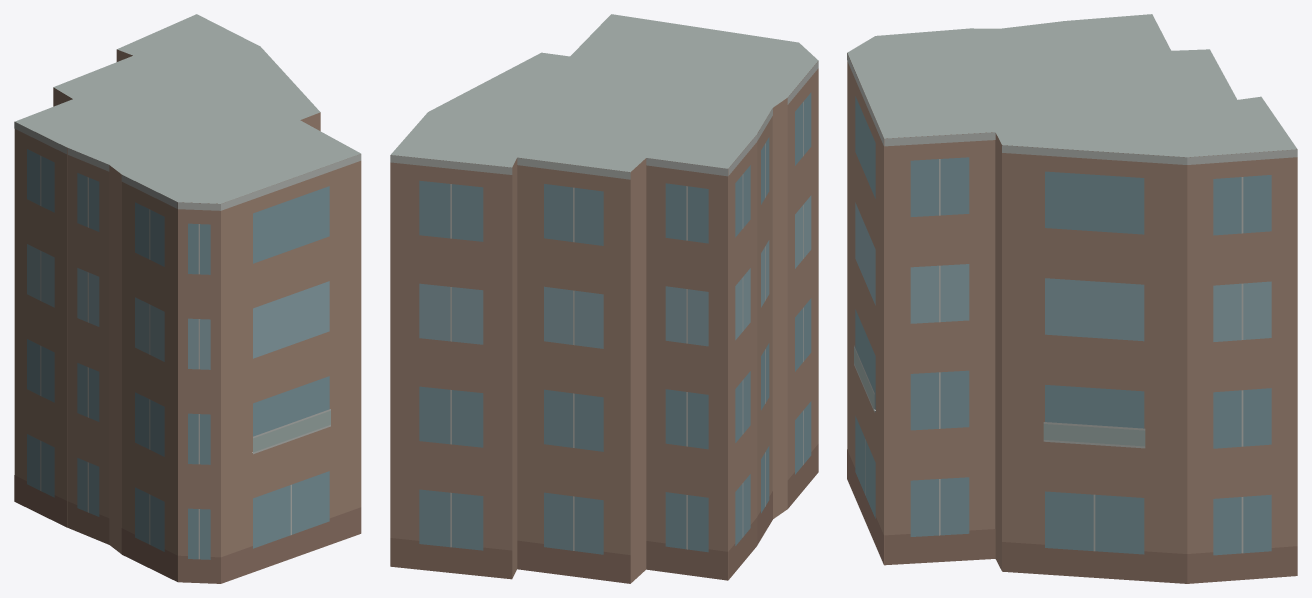
Rendered from survey-upis-33033037.glb.
The picture shows the model from 3 angles, left to right: view 1: azimuth 30°, elevation 25°; view 2: azimuth 150°, elevation 25°; view 3: azimuth 270°, elevation 25°; orthographic projection. The views are drawn at different scales.
Visible parts, largest first — view 1: survey-upis-33033037.tmp; view 2: survey-upis-33033037.tmp; view 3: survey-upis-33033037.tmp.
Part boxes in pixels (box(x1,y1,x2,y2)): survey-upis-33033037.tmp: box(14, 14, 361, 583); survey-upis-33033037.tmp: box(390, 14, 818, 583); survey-upis-33033037.tmp: box(847, 14, 1297, 583).
Bounding box in the file's own units: 9.59 × 13.3 × 12.74.
